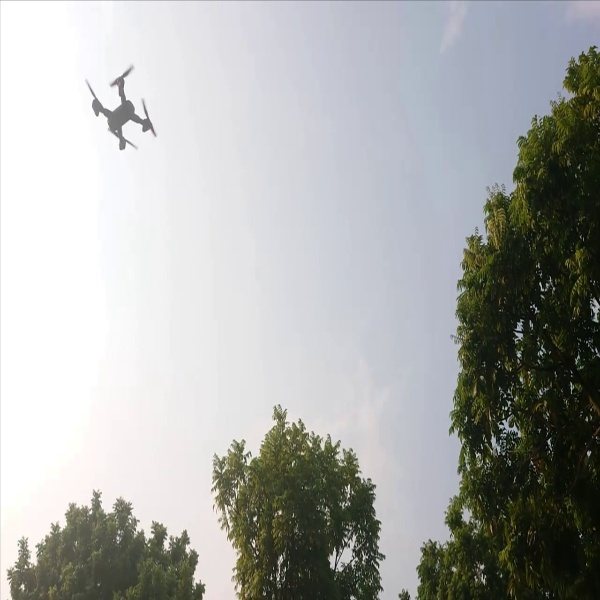drone: (80, 62, 165, 155)
